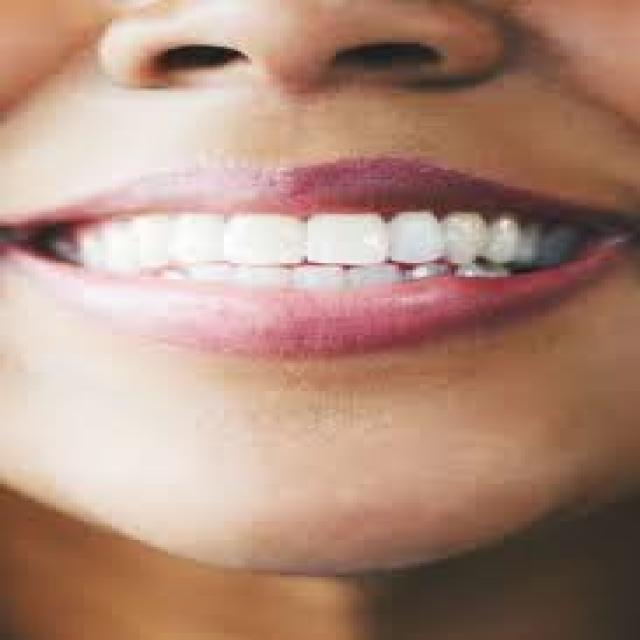tooth: (129, 214, 238, 268), (497, 212, 584, 270), (308, 205, 388, 265), (28, 228, 136, 270), (231, 212, 311, 265), (384, 207, 440, 263), (441, 205, 486, 265), (154, 268, 283, 284), (294, 268, 349, 291), (350, 263, 402, 286), (465, 258, 500, 284), (409, 265, 441, 277)
